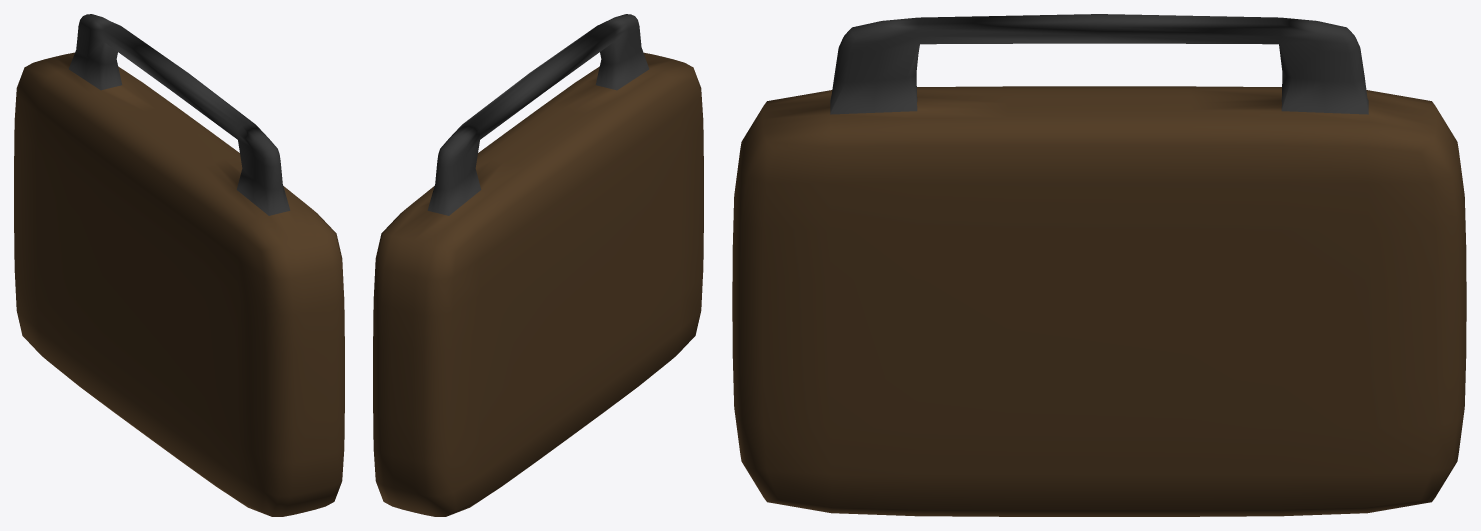
File: BriefCaseBigBrown.fbx
The picture shows the model from 3 angles, left to right: view 1: azimuth 30°, elevation 25°; view 2: azimuth 150°, elevation 25°; view 3: azimuth 270°, elevation 25°; orthographic projection. The views are drawn at different scales.
Parts seen in each view (by area): view 1: Cube.002; view 2: Cube.002; view 3: Cube.002.
Part boxes in pixels (box(x1,y1,x2,y2)): Cube.002: box(14, 14, 344, 516); Cube.002: box(373, 14, 703, 516); Cube.002: box(732, 14, 1466, 516).
Bounding box in the file's own units: 10 × 40 × 55.
